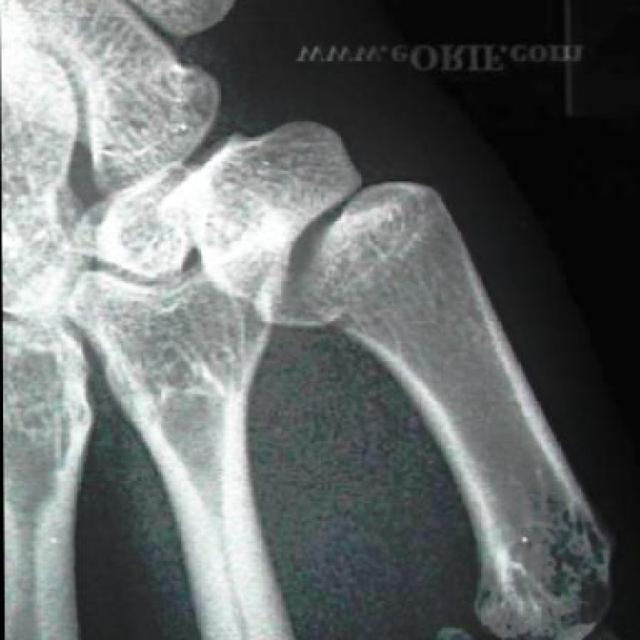Fracture: (248, 171, 425, 371)
